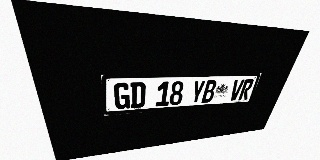1: (155, 81, 171, 106)
8: (169, 81, 185, 105)
B: (201, 80, 218, 103)
D: (130, 82, 146, 108)
G: (114, 82, 130, 110)
R: (238, 79, 255, 100)
V: (228, 79, 245, 101)
Y: (190, 80, 206, 104)
